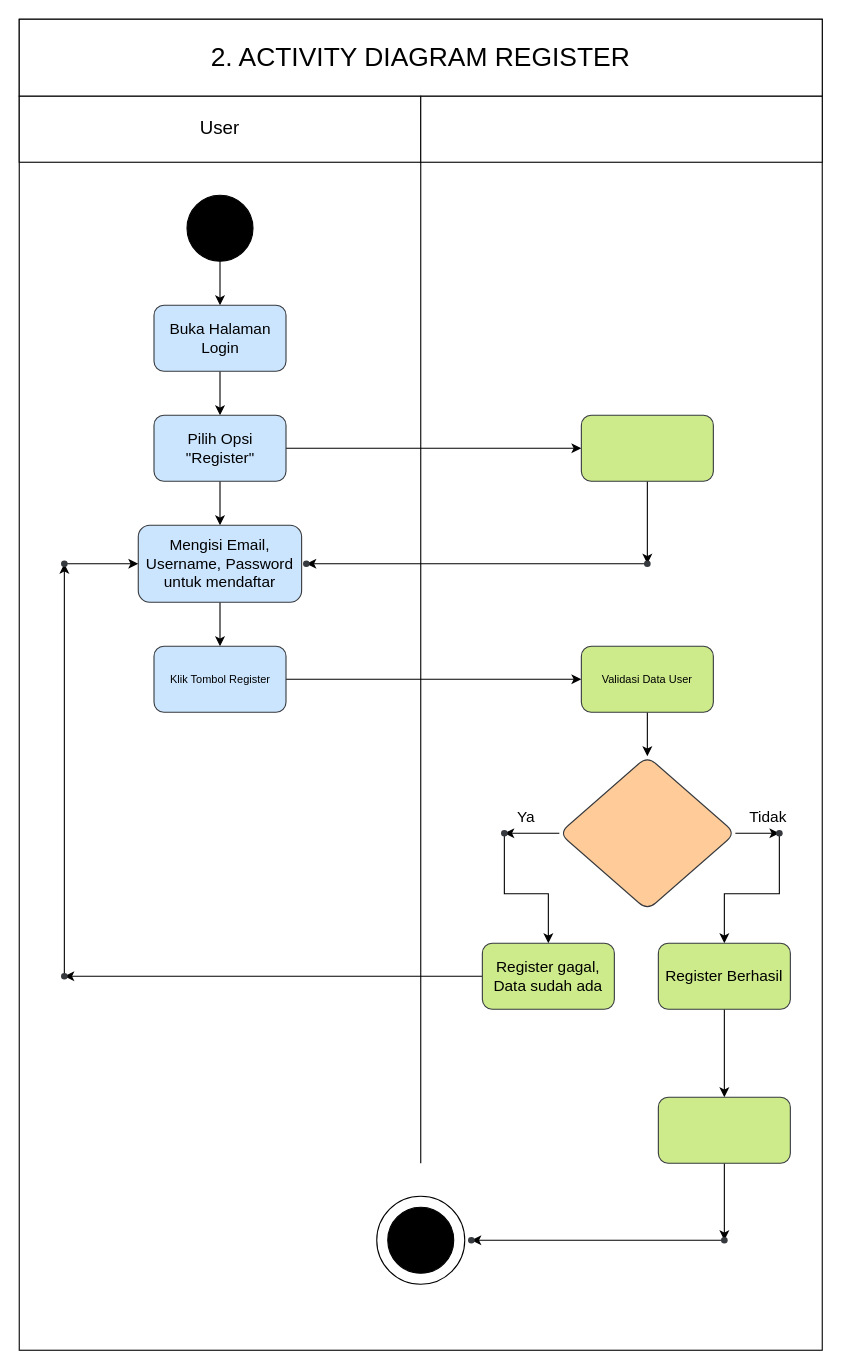
The diagram is 842 pixels wide and 1370 high, and some of its shapes have lost their labels. Each missing label, with the centre of its shape:
"Apakah data sudah ada di Database ?" goes at point (646, 832).
"Masuk ke Halaman Login" goes at point (723, 1129).
"Menampilkan Form Register" goes at point (646, 447).
"Sistem" goes at point (621, 128).
